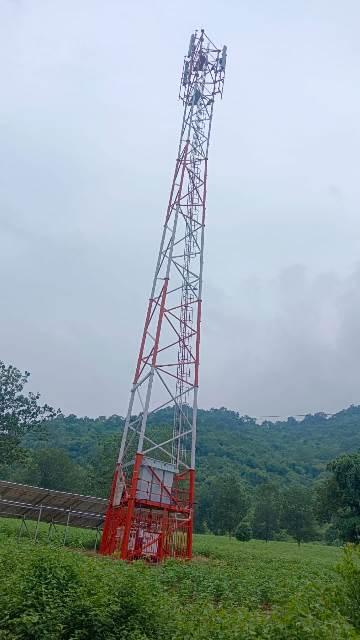GSM Antenna: (220, 42, 231, 76), (183, 59, 190, 88), (188, 32, 195, 59)
